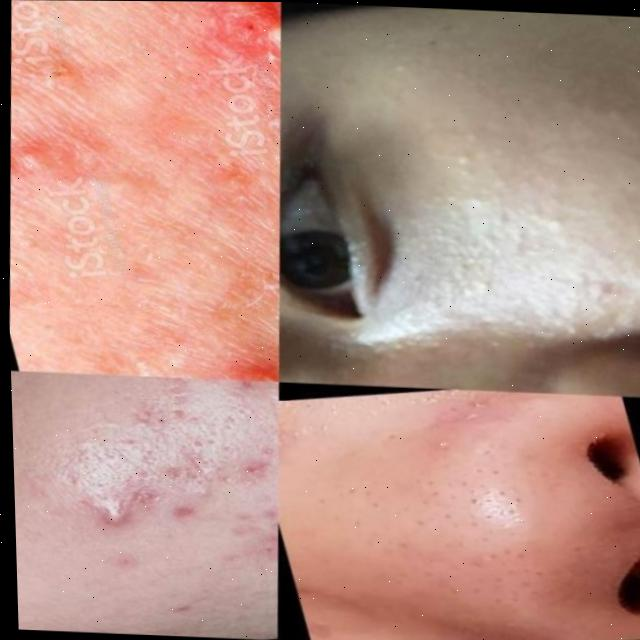Acne: (45, 0, 318, 226), (351, 472, 494, 640), (88, 412, 254, 537)
